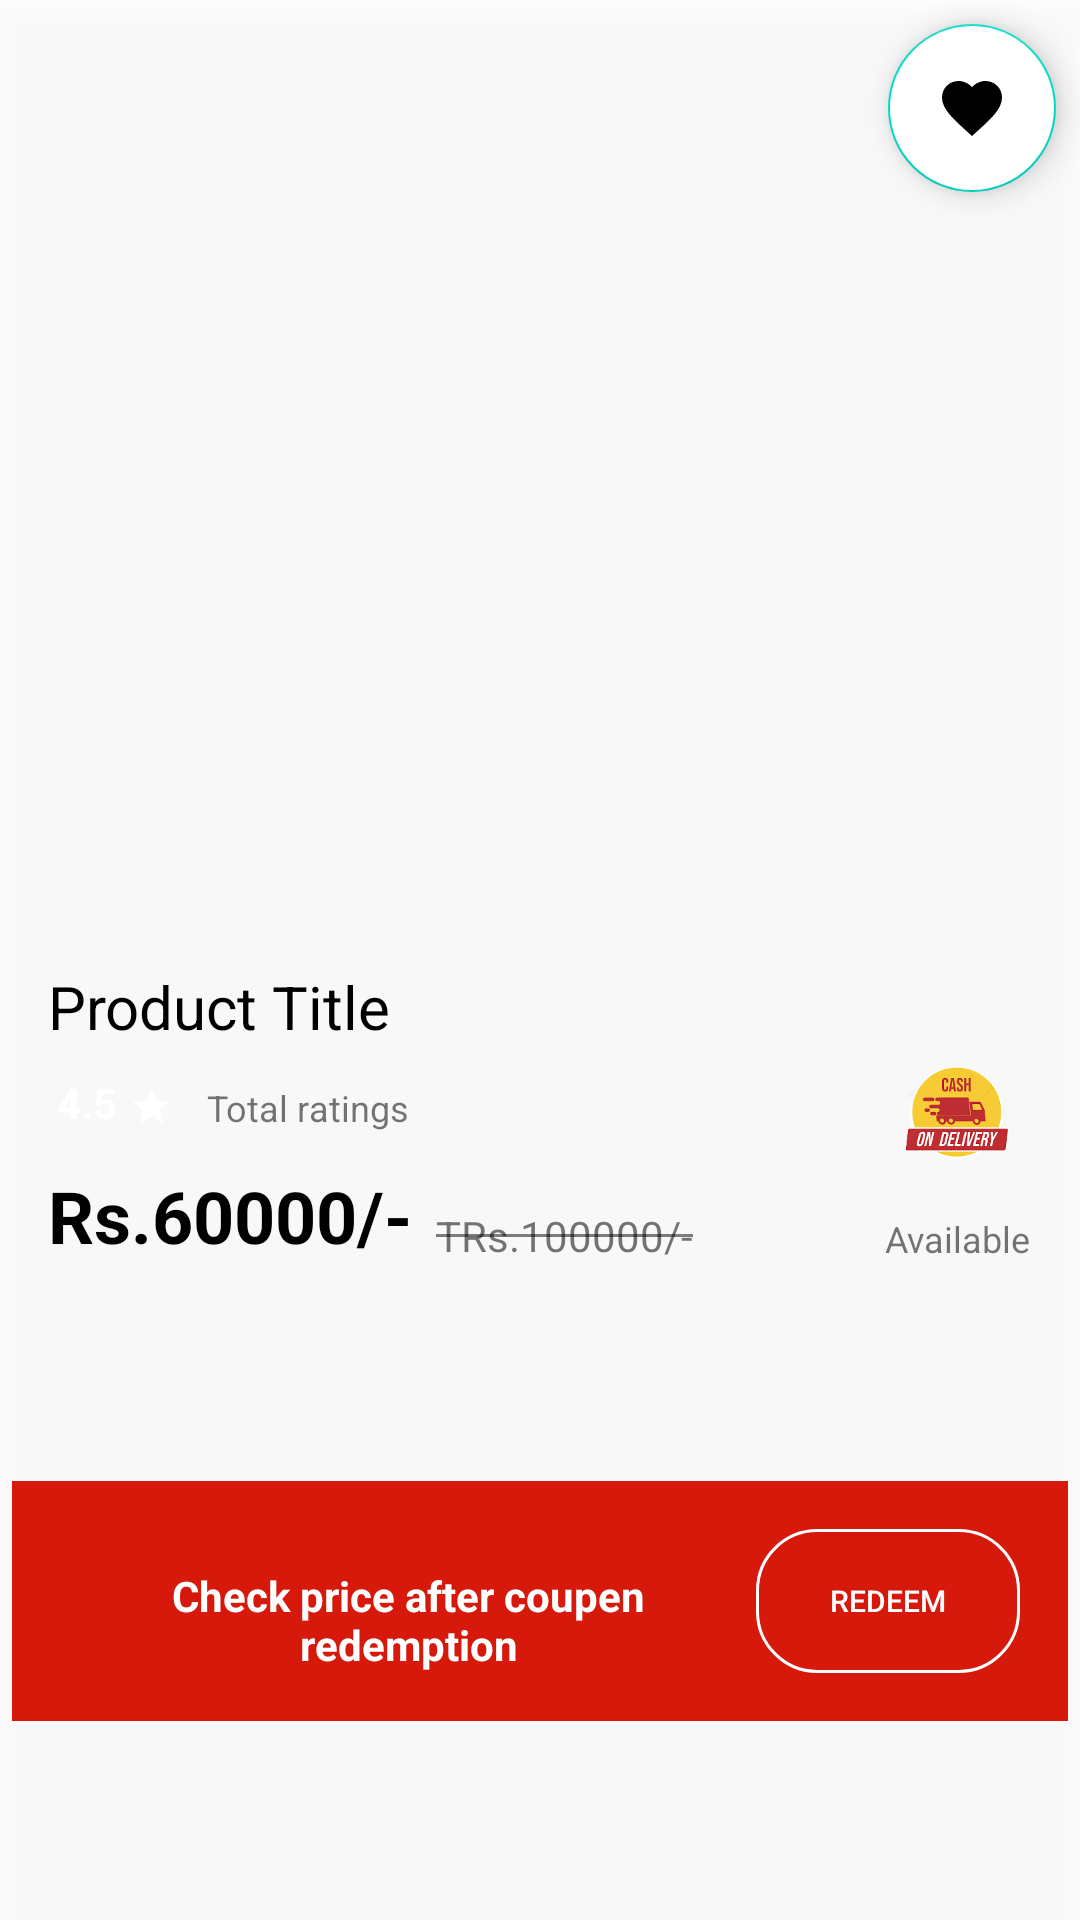

Screen size 1080px×1920px. Icon name, then its center in pixels as [x,y]:
wishlist: [972,108]
